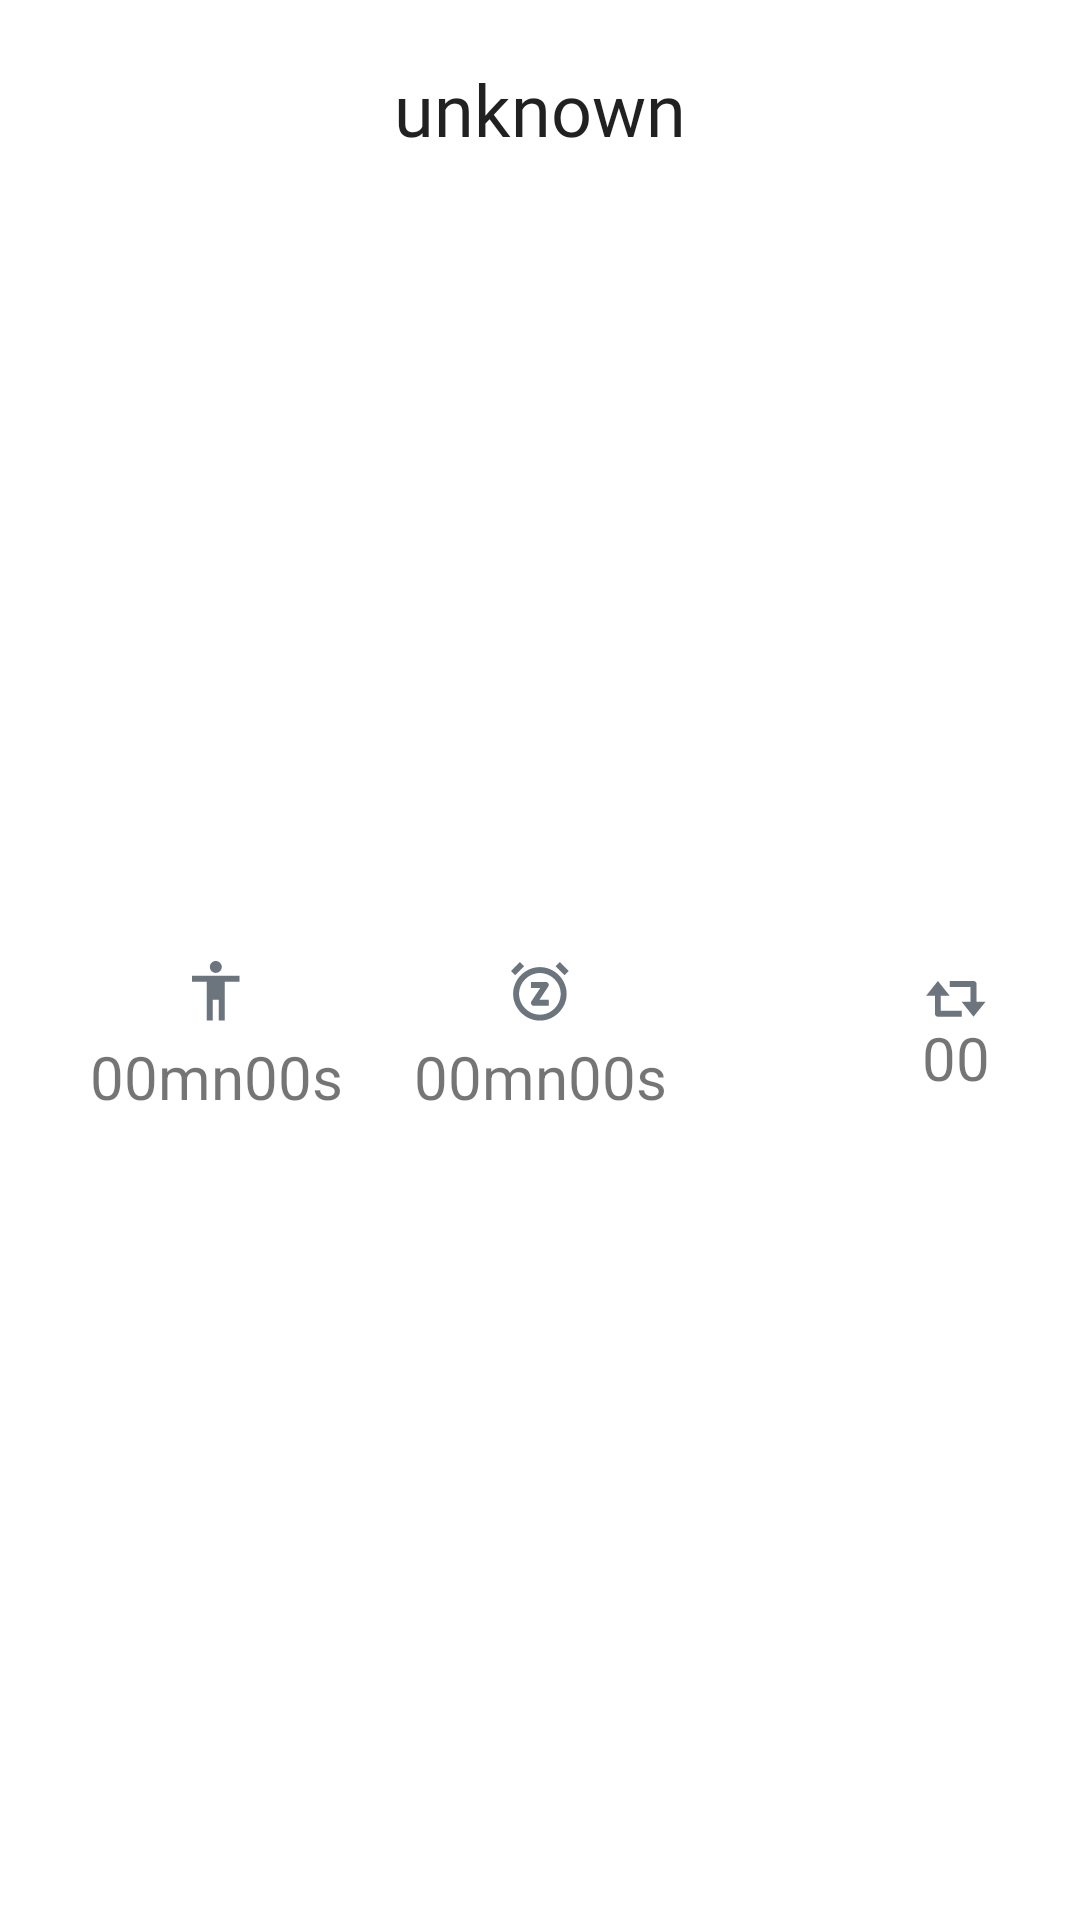

Named icons in this screenshot (1080*1920) and their bounding boxes, (x1, y1, x2, y2):
rest: (511, 962, 569, 1021)
round: (926, 981, 985, 1017)
working: (192, 961, 240, 1021)
